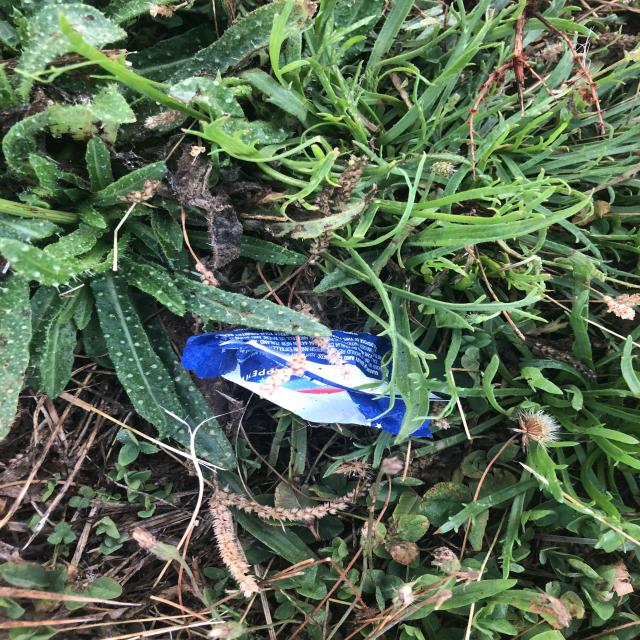litter: (437, 175, 580, 344)
